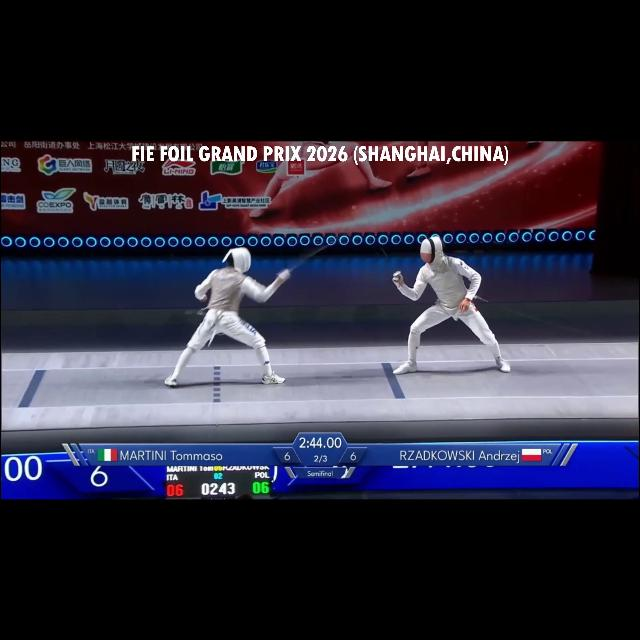blade: (276, 236, 342, 284), (378, 244, 408, 286)
